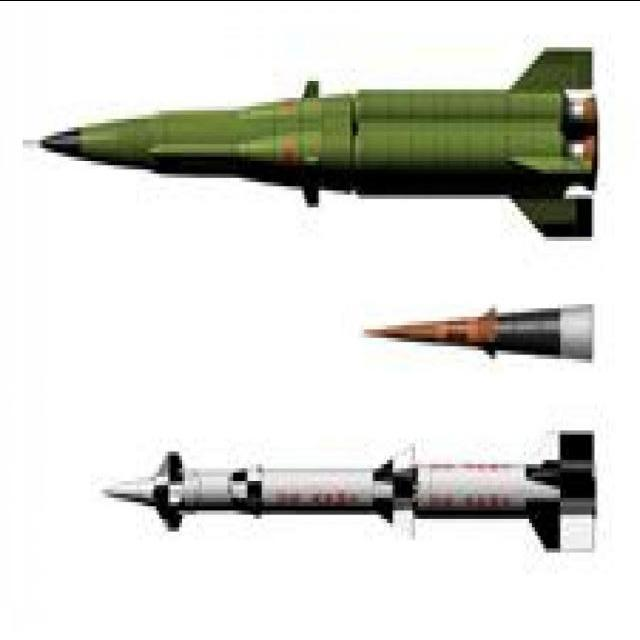Missile: (22, 37, 602, 250), (92, 421, 605, 546), (348, 290, 610, 376)
